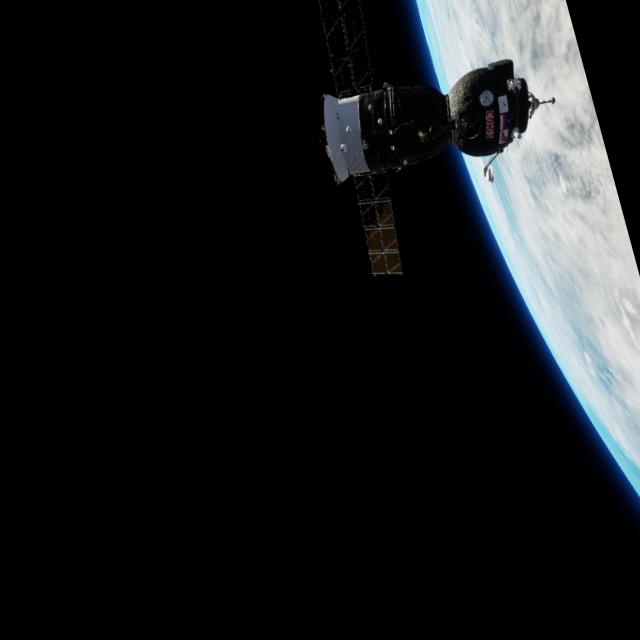Satellites revolving around earth: (406, 0, 640, 581)
